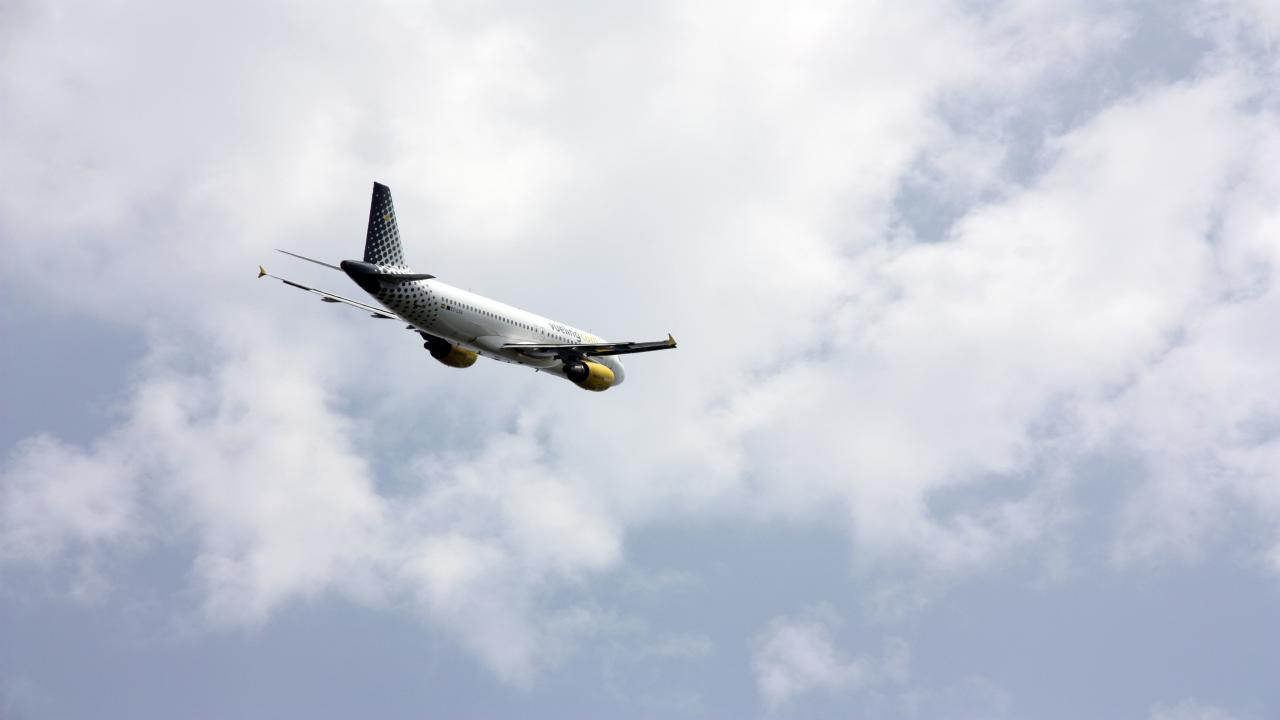Airplane: (238, 168, 700, 411)
